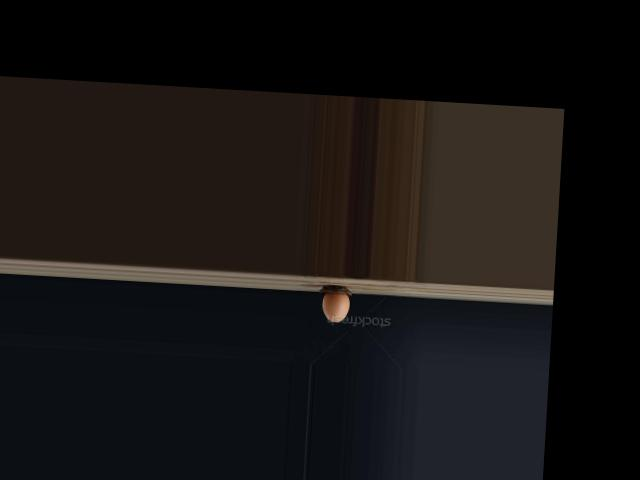egg: (320, 291, 349, 322)
